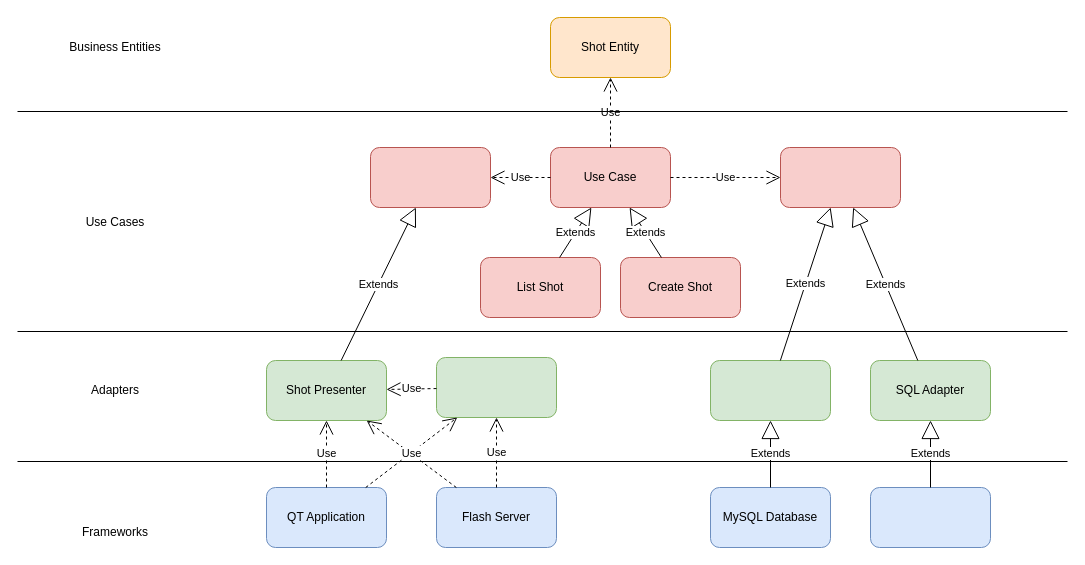
This 1085x565 diagram has some shape labels left out. The shapes that lost their labels are listed below. From the top down, each one's centre as x and y in pixels, then its label:
At (430,177): "Shot Boundary".
At (840,177): "Business Entity Gateway".
At (496,387): "Shot Controller".
At (770,390): "MySQL Adapter".
At (930,517): "SQL Lite database".
